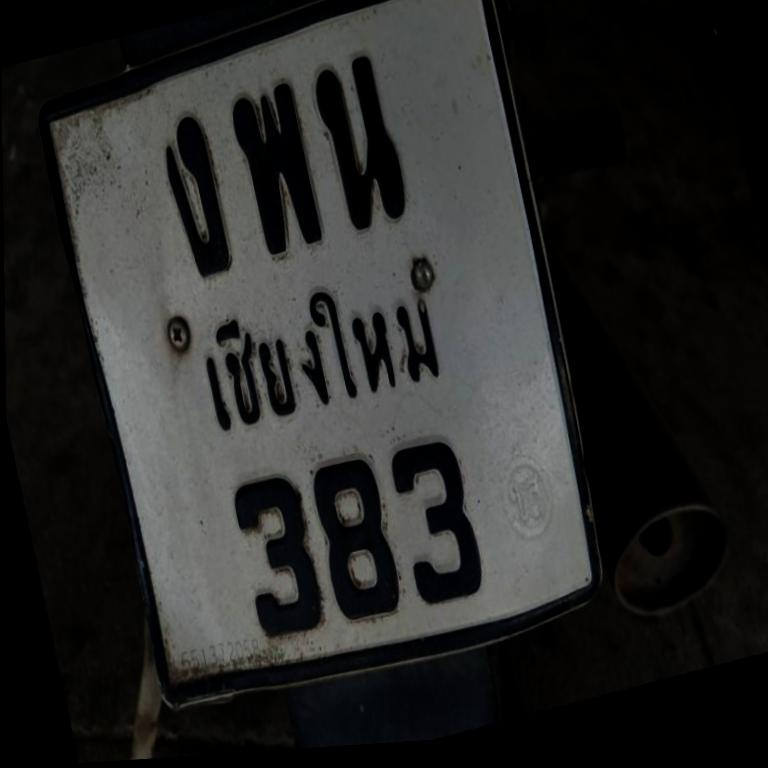license plate: (11, 0, 640, 747)
